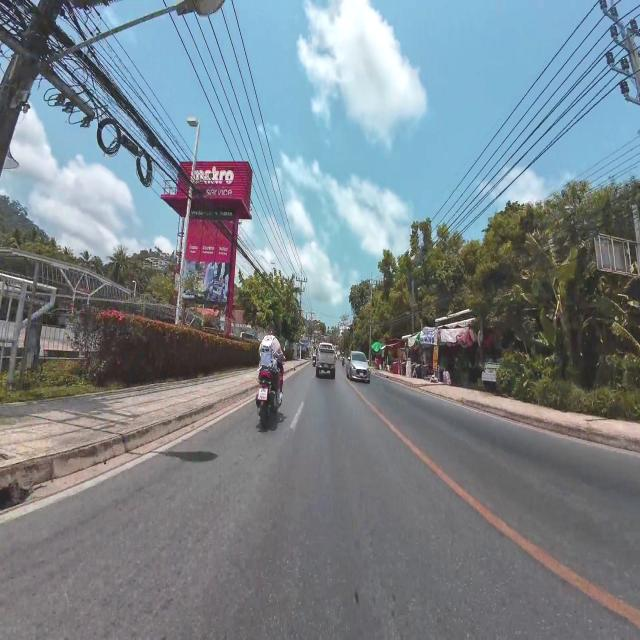car: (347, 351, 370, 383), (316, 342, 336, 377)
motorcycle: (256, 366, 281, 429)
